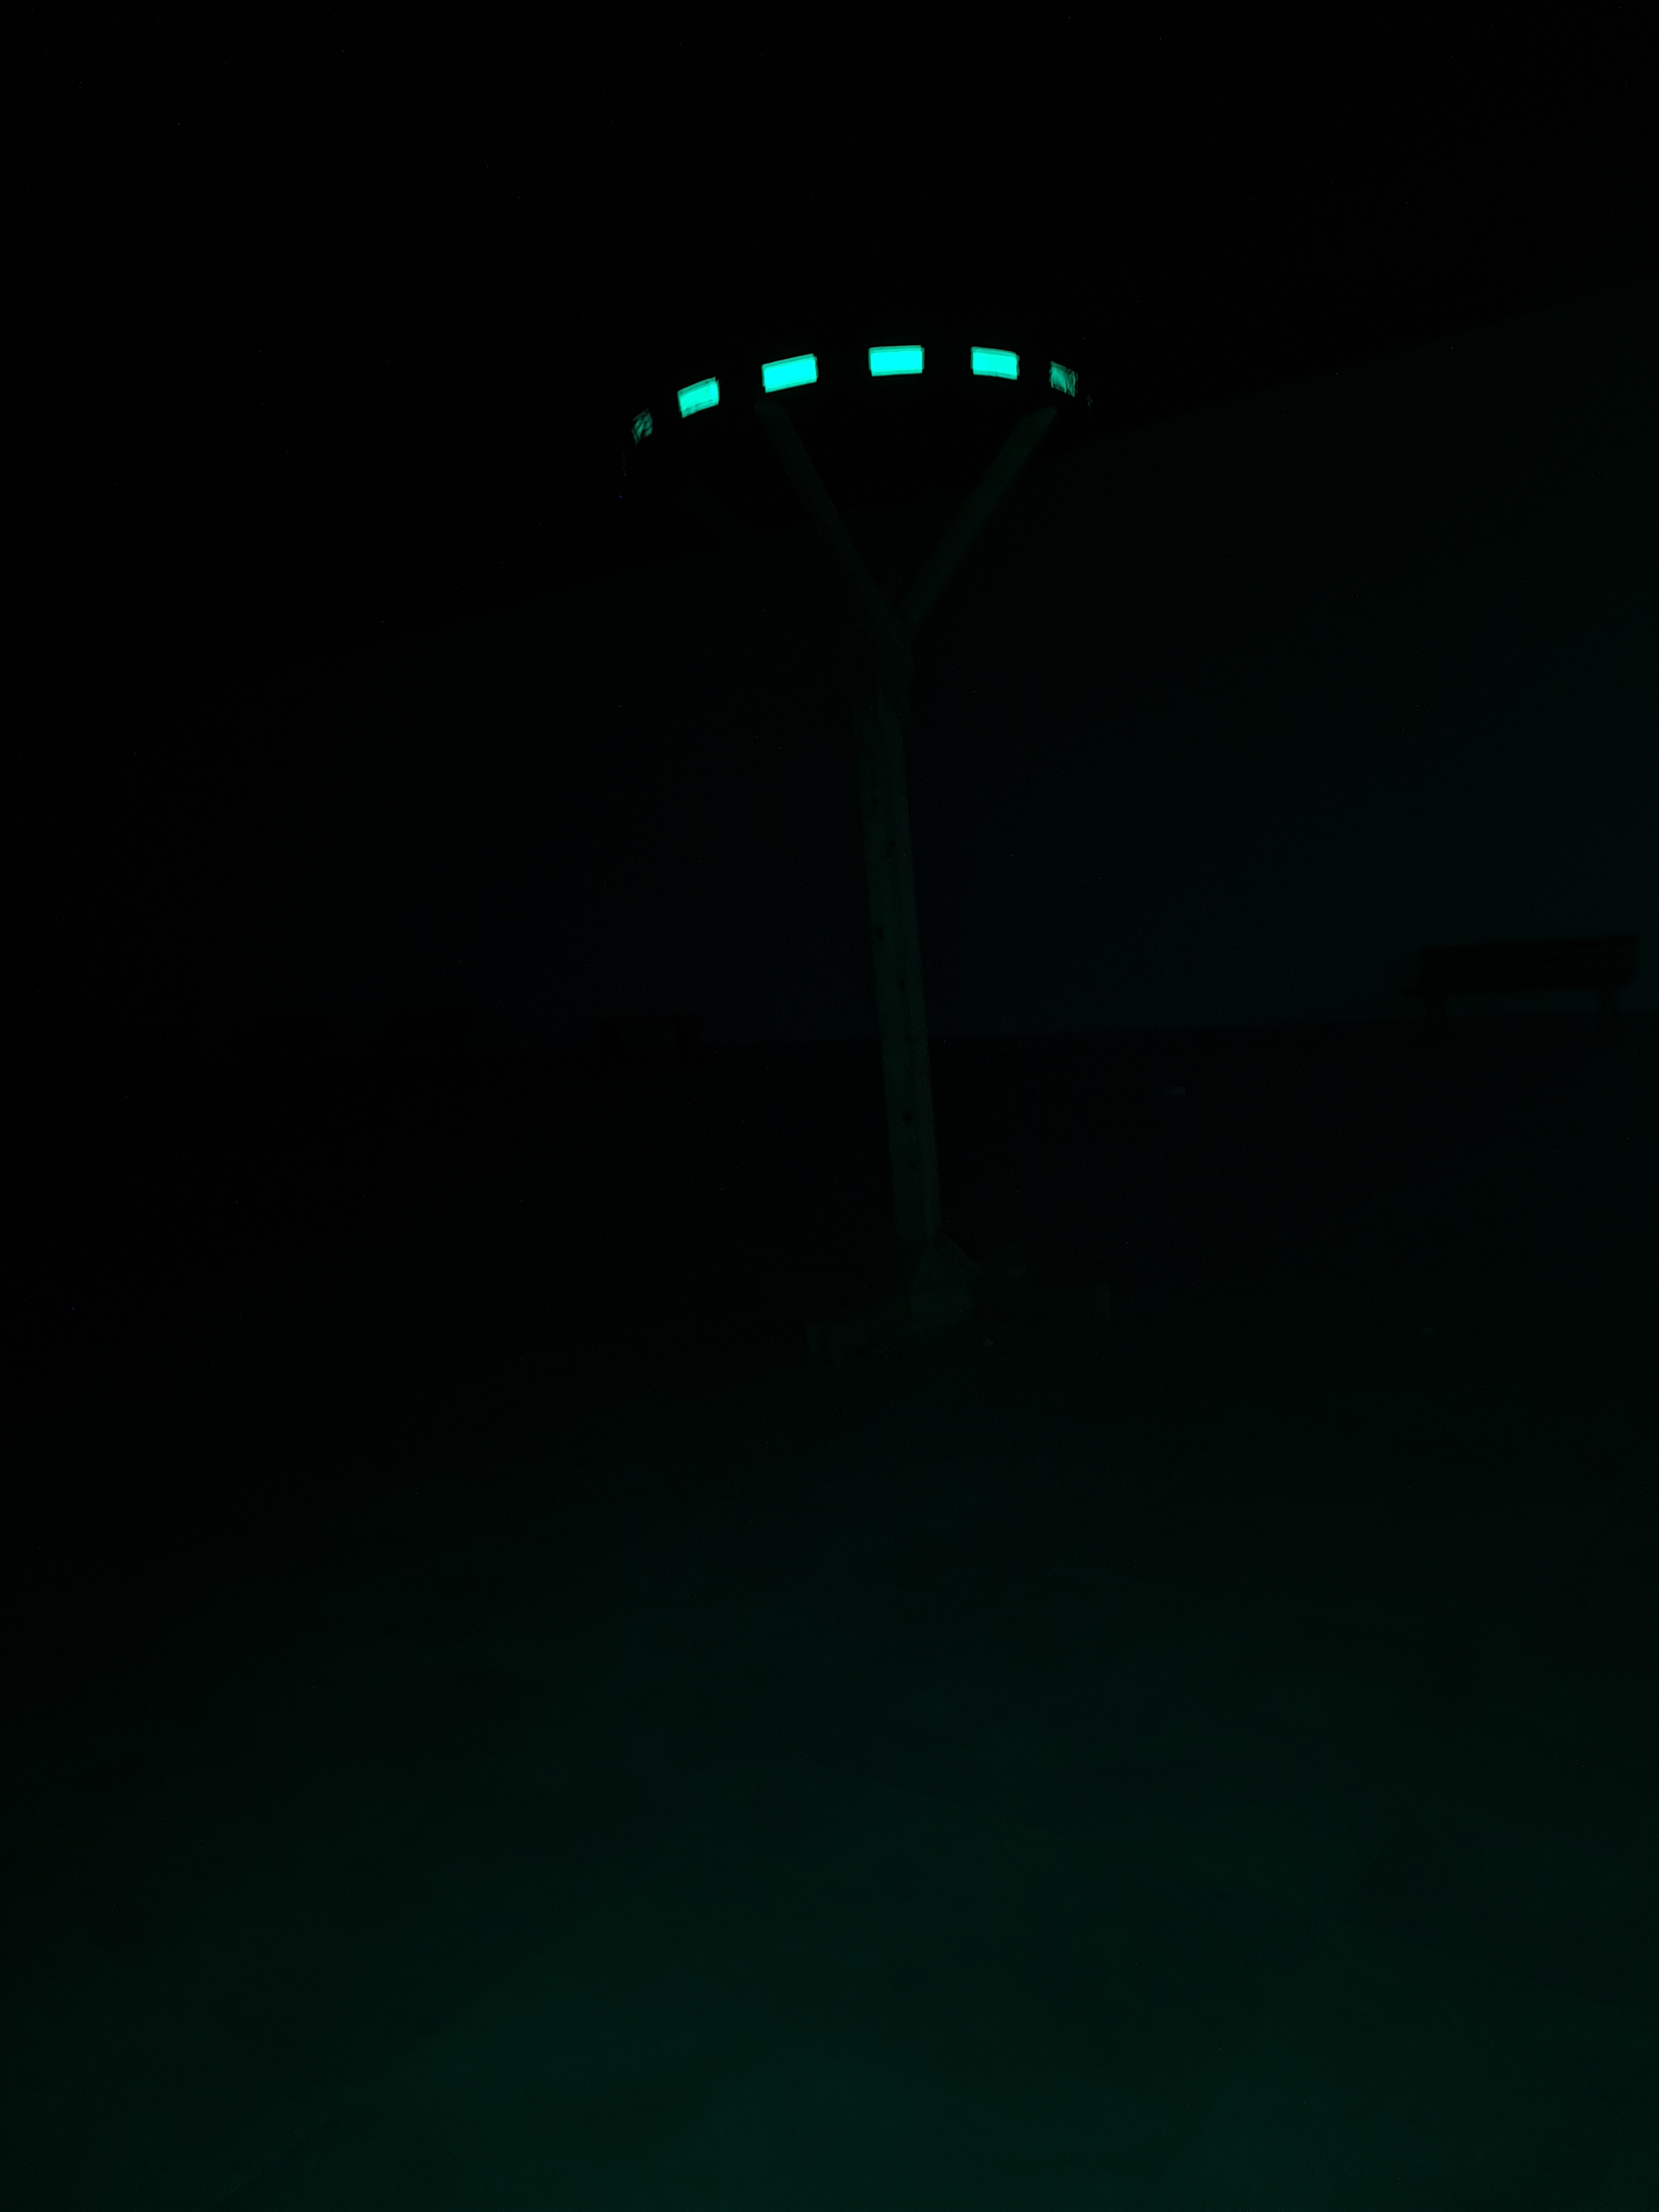hoop: (626, 341, 1080, 448)
